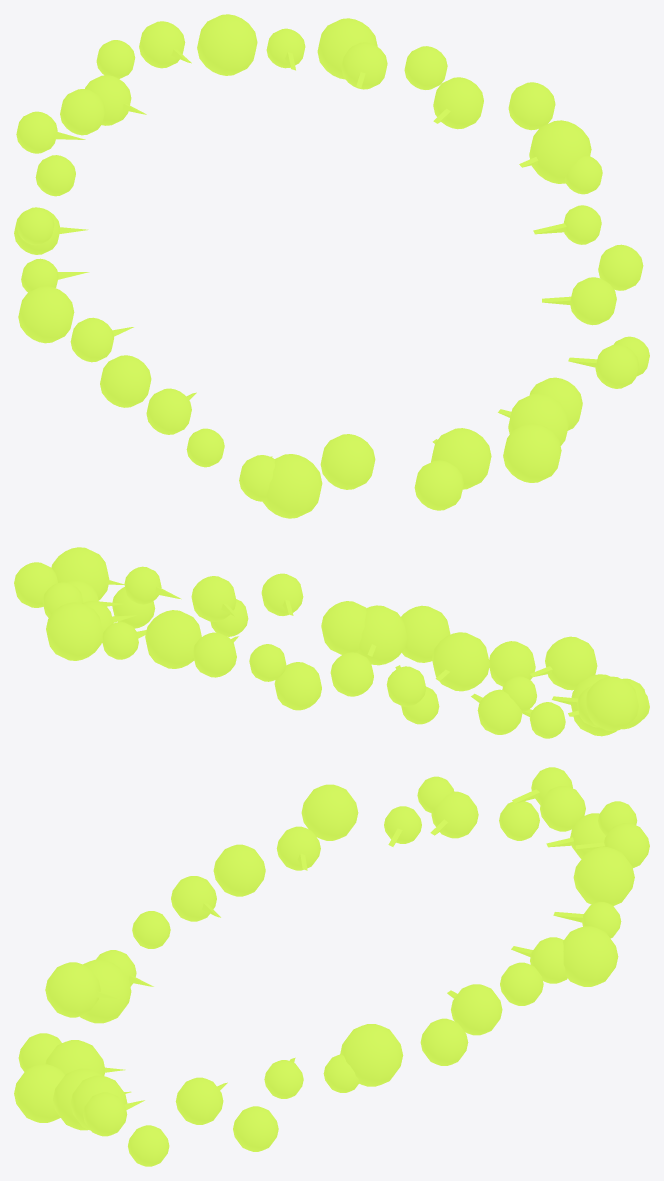
File: orbit_fireflies.glb
The picture shows the model from 3 angles, top to bottom: view 1: azimuth 30°, elevation 25°; view 2: azimuth 150°, elevation 25°; view 3: azimuth 270°, elevation 25°; orthographic projection. The views are drawn at different scales.
Parts seen in each view (by area): view 1: halo28, halo12, halo8, halo35, halo18, halo11, halo9, halo16, halo33, halo10, halo30, halo7 (+22 smaller); view 2: halo30, halo9, halo28, halo18, halo7, halo11, halo8, halo6, halo35, halo25, halo27, halo3 (+20 smaller); view 3: halo35, halo28, halo30, halo18, halo11, halo8, halo16, halo33, halo12, halo3, halo34, halo2 (+23 smaller).
Boxes of the visible parts, x1,y1,x2,y2 form: halo28: (197,14,257,75); halo12: (263,454,322,518); halo8: (503,423,561,482); halo35: (529,120,591,183); halo18: (18,286,74,343); halo11: (320,434,375,489); halo9: (431,428,491,489); halo16: (100,355,151,407); halo33: (433,77,483,129); halo10: (414,460,463,510); halo30: (317,18,377,79); halo7: (508,393,568,445); halo30: (46,602,103,660); halo9: (432,632,489,691); halo28: (145,610,201,668); halo18: (585,676,638,731); halo7: (357,605,407,665); halo11: (545,636,597,690); halo8: (401,605,450,662); halo6: (321,601,366,654); halo35: (51,547,109,600); halo25: (274,662,321,710); halo27: (193,632,236,677); halo3: (191,576,236,621); halo35: (340,1024,403,1086); halo28: (573,847,634,905); halo30: (563,926,618,986); halo18: (301,784,358,840); halo11: (45,962,100,1017); halo8: (14,1064,64,1122); halo16: (213,844,265,896); halo33: (451,984,502,1035); halo12: (80,959,131,1023); halo3: (175,1077,223,1124); halo34: (420,1018,468,1065); halo2: (233,1106,278,1151).
Size of the model in its own units: 3.16 by 1.38 by 2.99.
